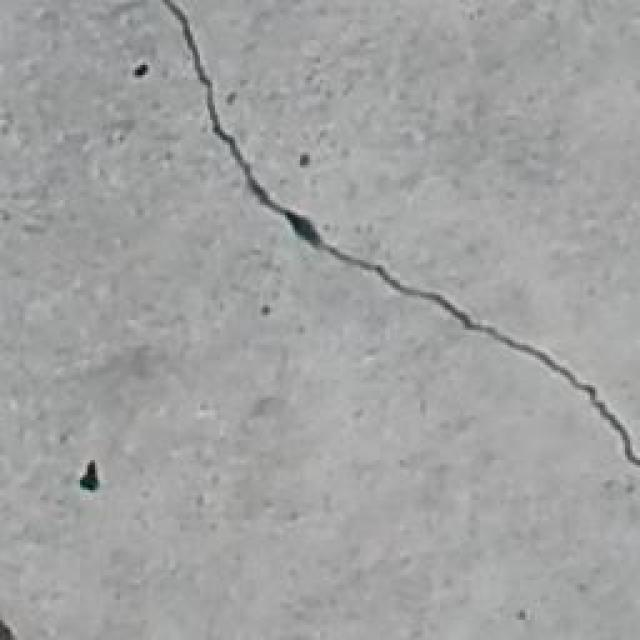concrete-crack: (160, 0, 640, 468)
